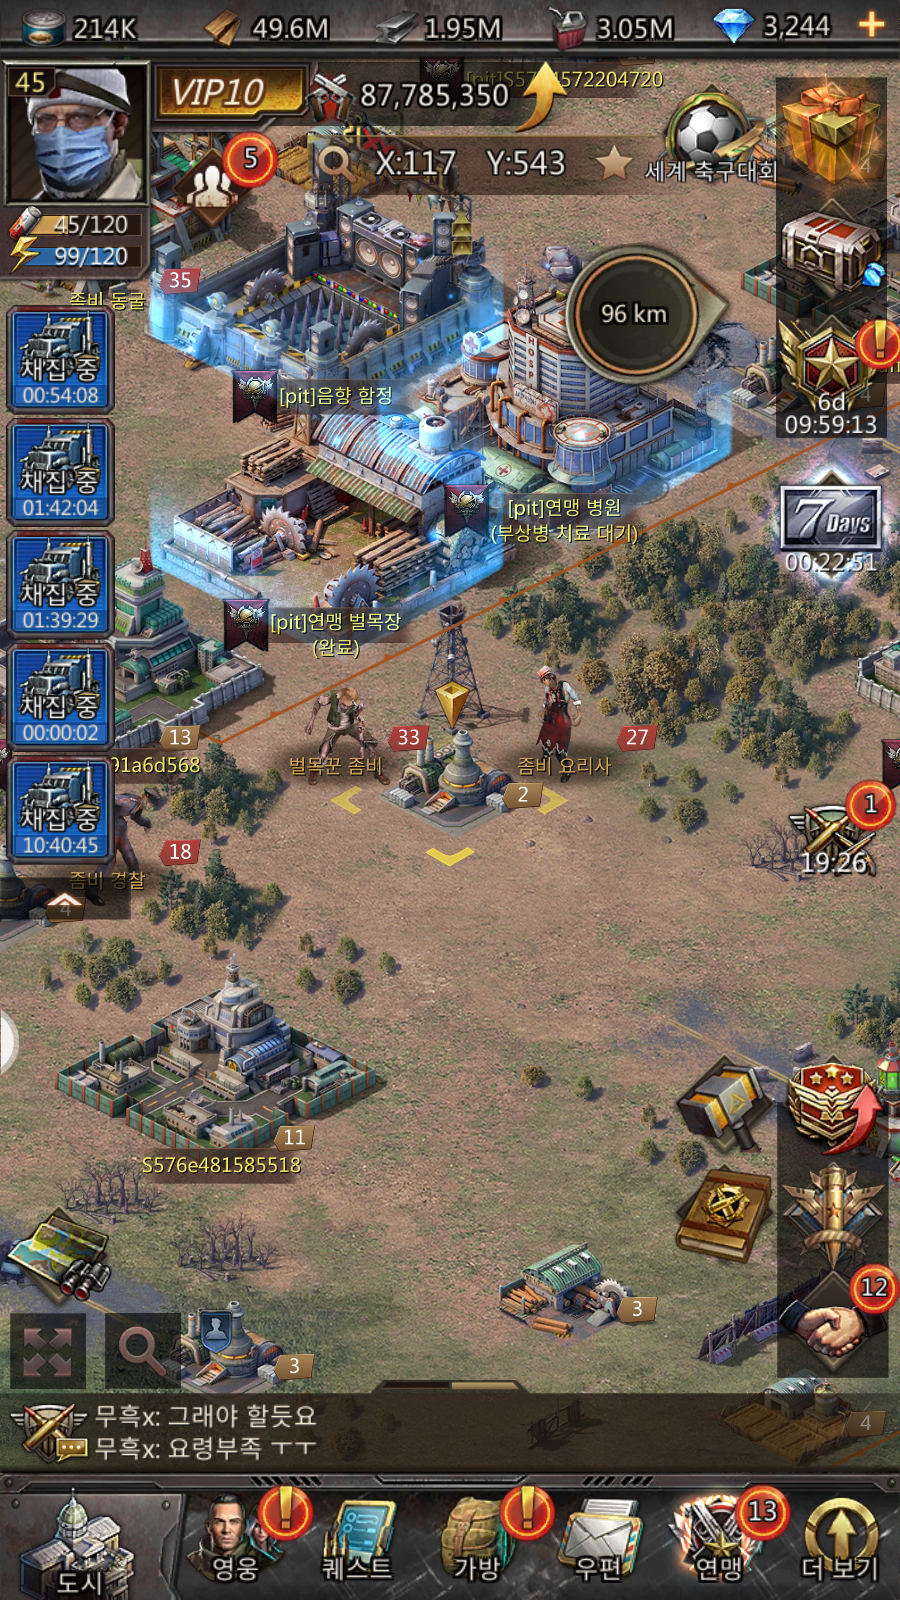city: (13, 1493, 182, 1600)
empty_steel: (325, 671, 585, 878)
open_panel: (98, 1304, 198, 1395)
troops_cnt_5: (160, 124, 285, 242)
